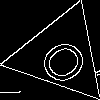O: (35, 30, 99, 90)
